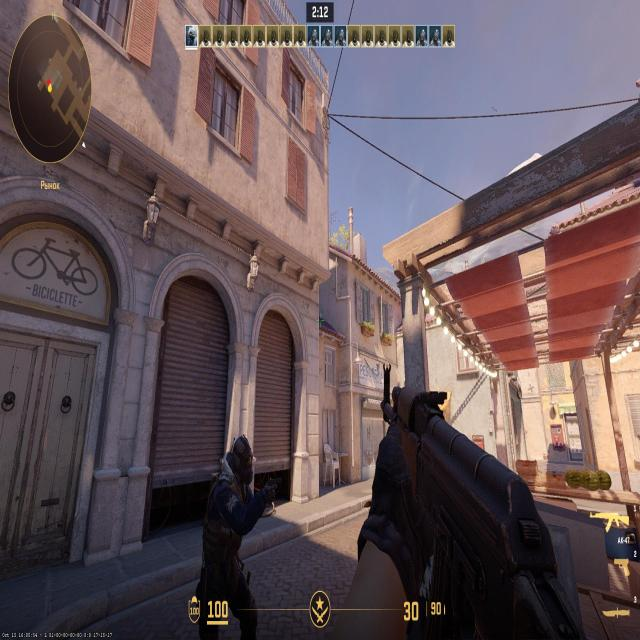CT: (209, 432, 251, 589)
CT_heat: (238, 439, 246, 473)
